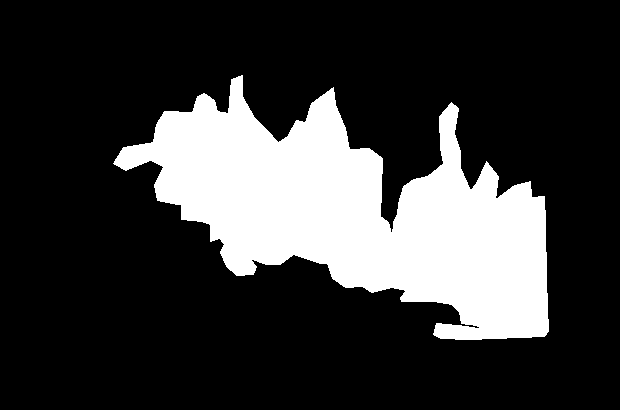type2: (106, 74, 551, 341)
